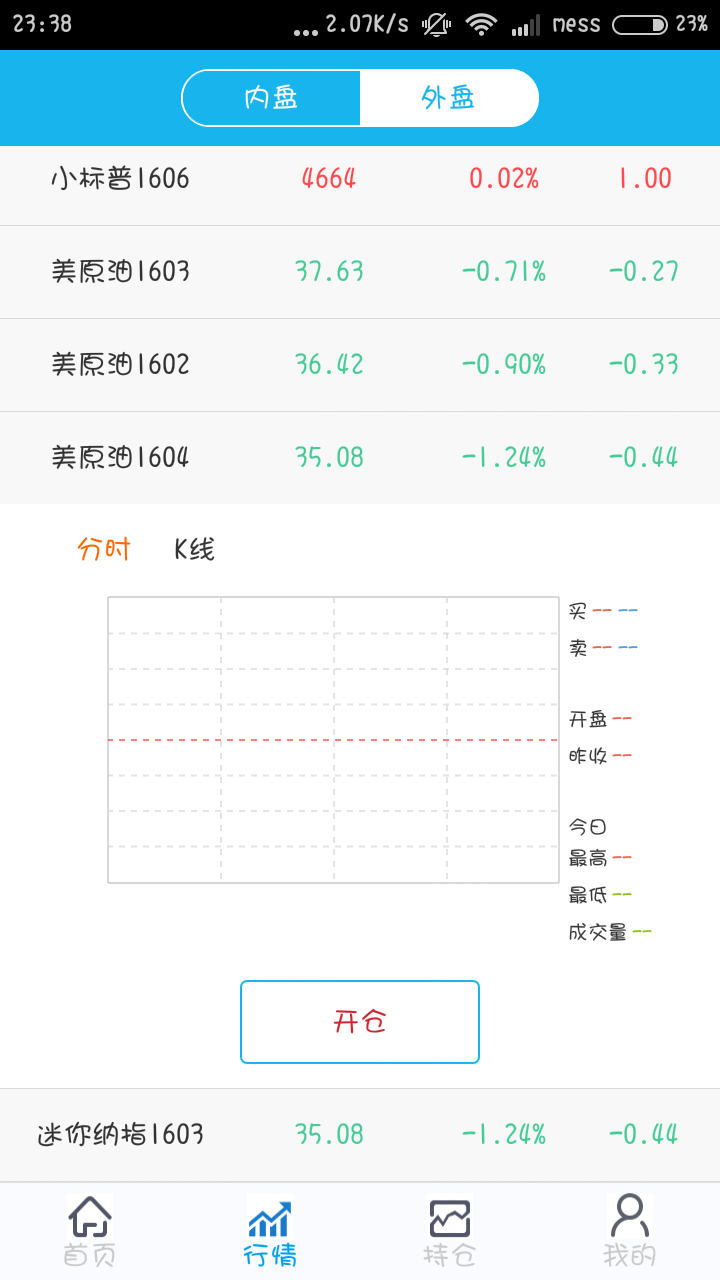button: (228, 970, 494, 1071), (175, 66, 558, 135)
nav: (26, 1177, 701, 1277)
textview: (31, 148, 696, 495)
